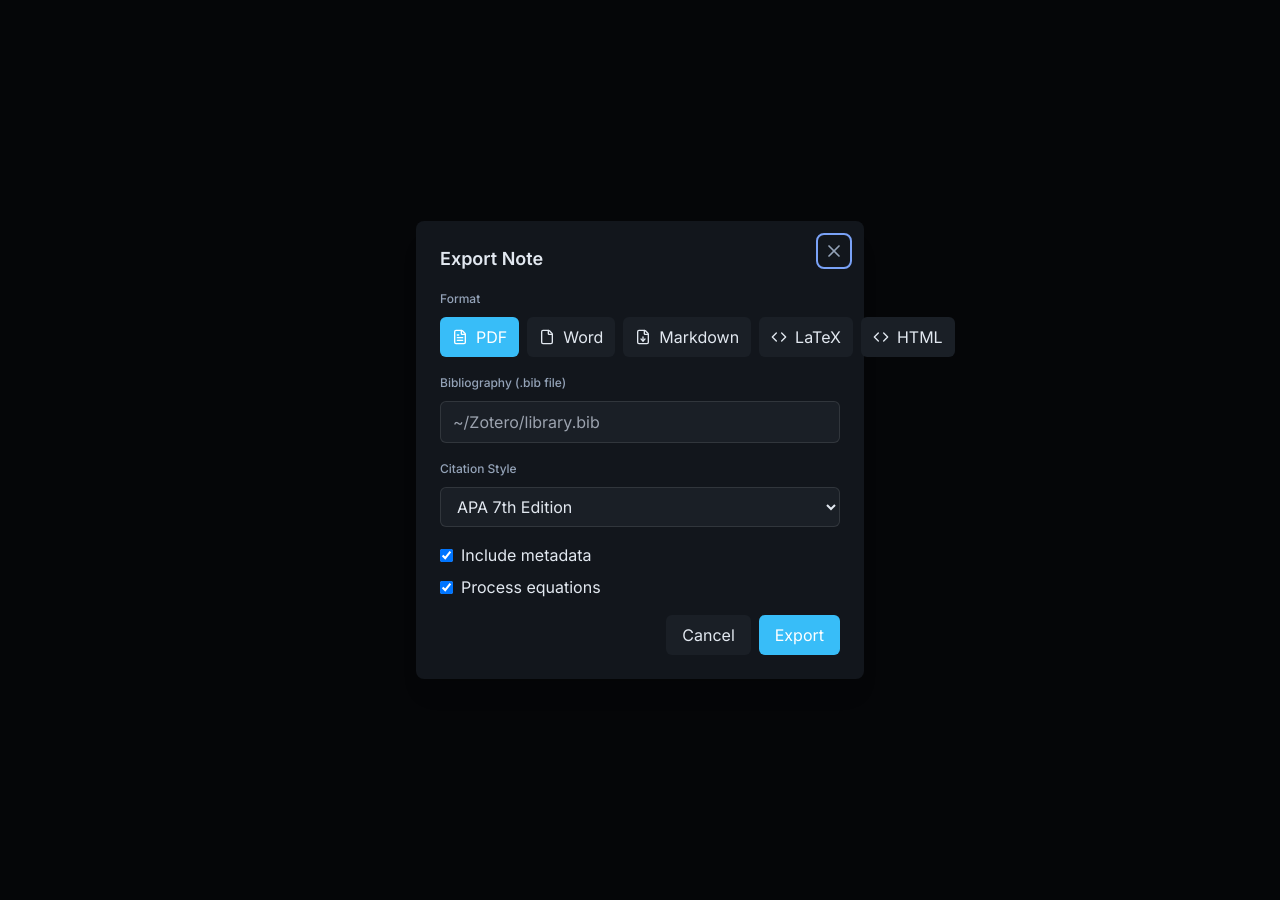
Scenario: ExportDialog Component › Format Selection › shows frontmatter checkbox when Markdown is selected
Step 1. Click the button "Markdown" → click(687, 337), box [623, 317, 751, 357]
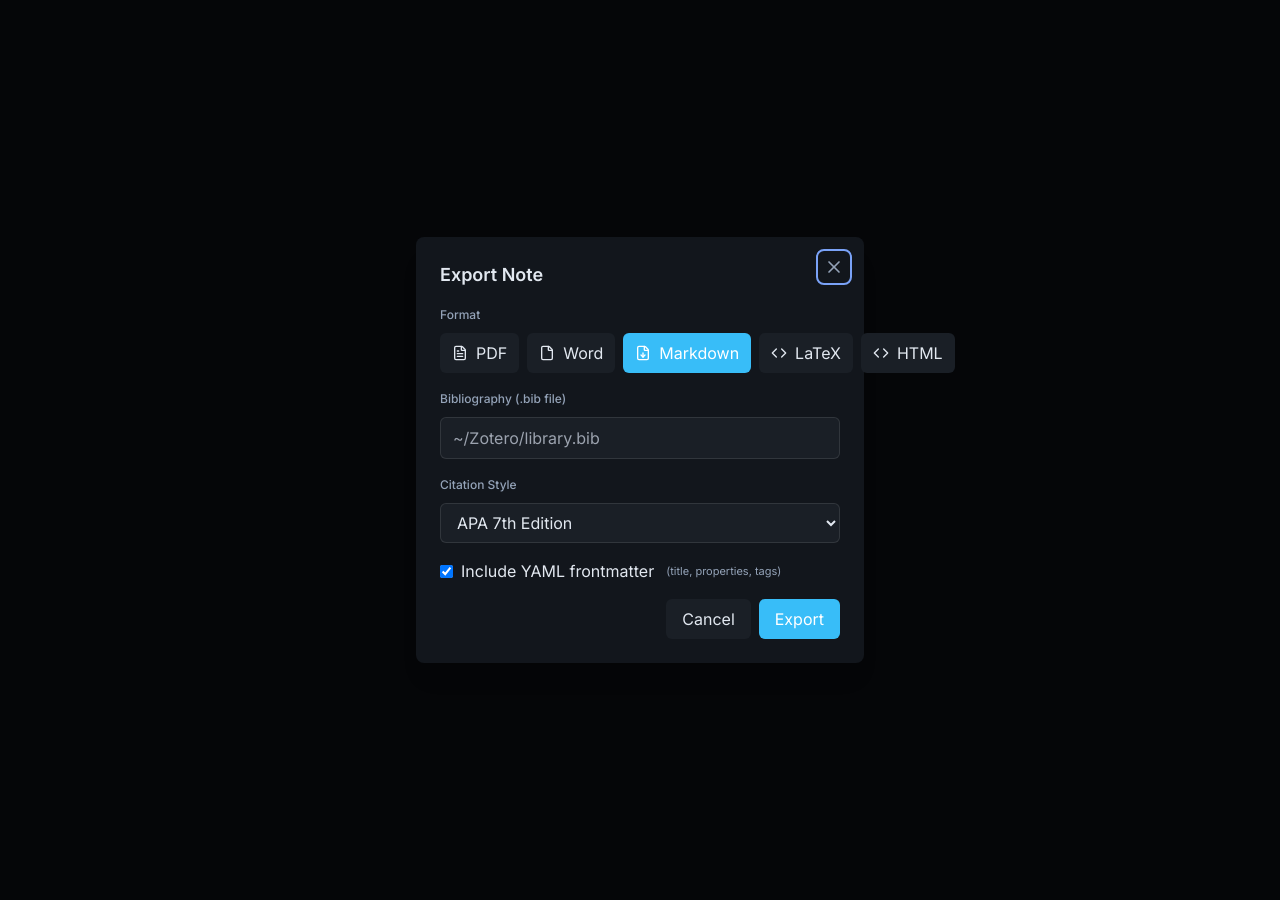
Check: the text "Include YAML frontmatter" is shown, box [461, 559, 654, 583]
Check: the text "Include metadata" is gone
Check: the text "Process equations" is gone
